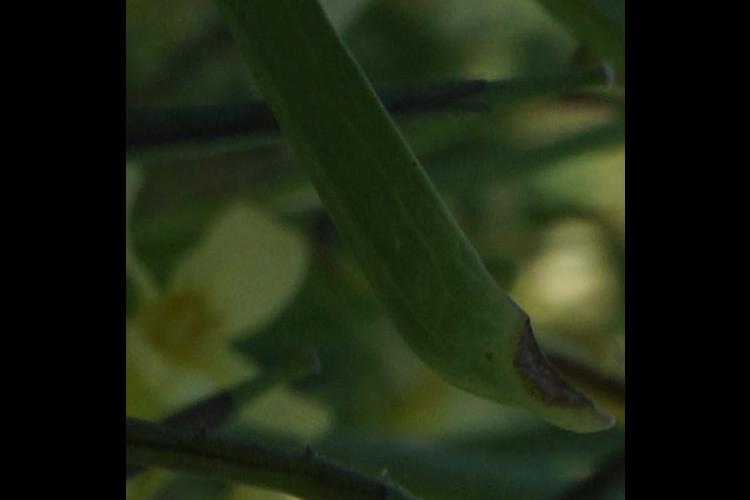pod: (127, 46, 611, 172), (130, 433, 503, 500)
